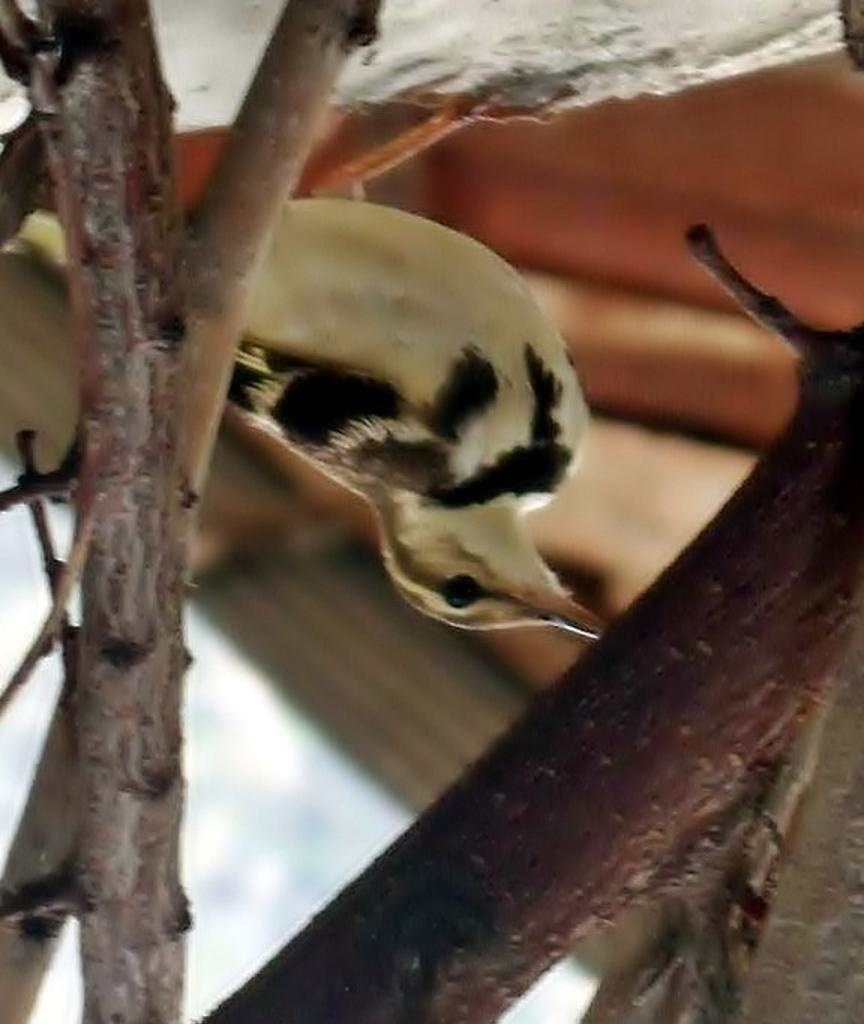wagtail: (116, 238, 589, 647)
